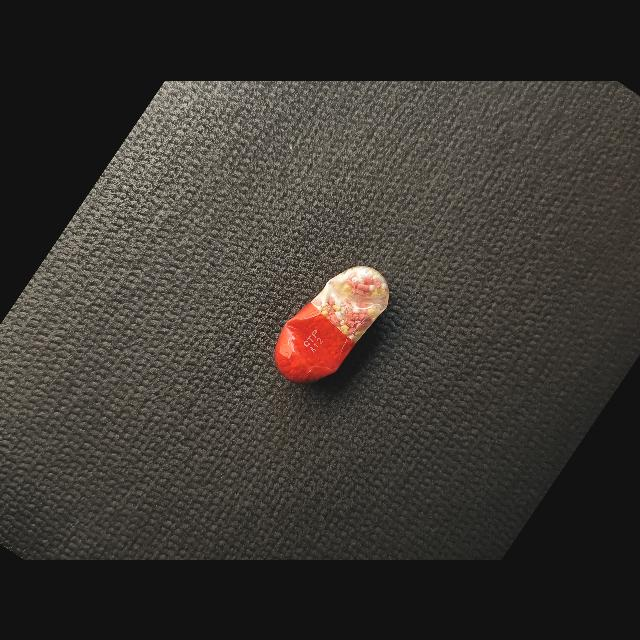Defective Capsule: (274, 265, 389, 383)
